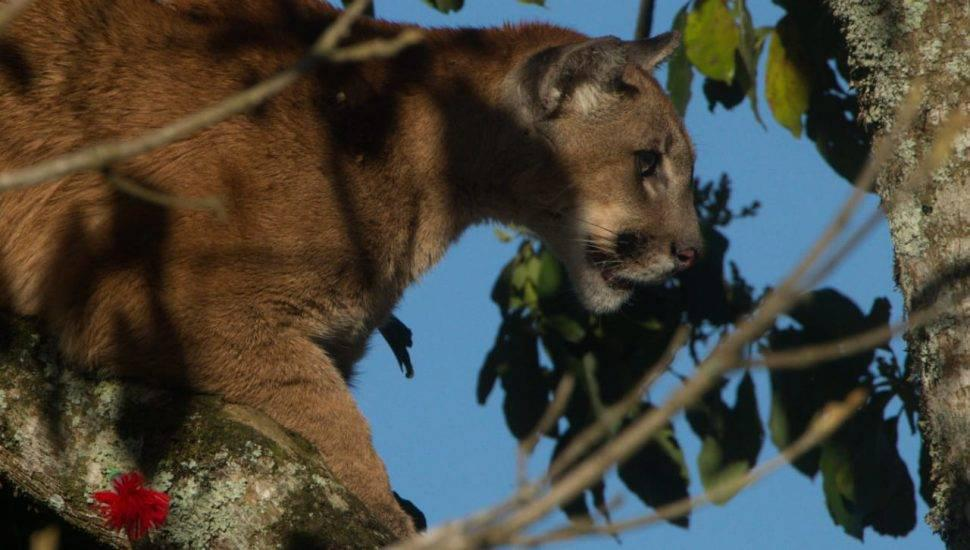OncaParda: (32, 5, 717, 477)
